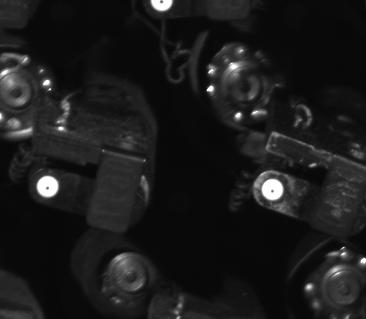fiber: (31, 167, 65, 203), (256, 175, 286, 205), (144, 1, 179, 16)
